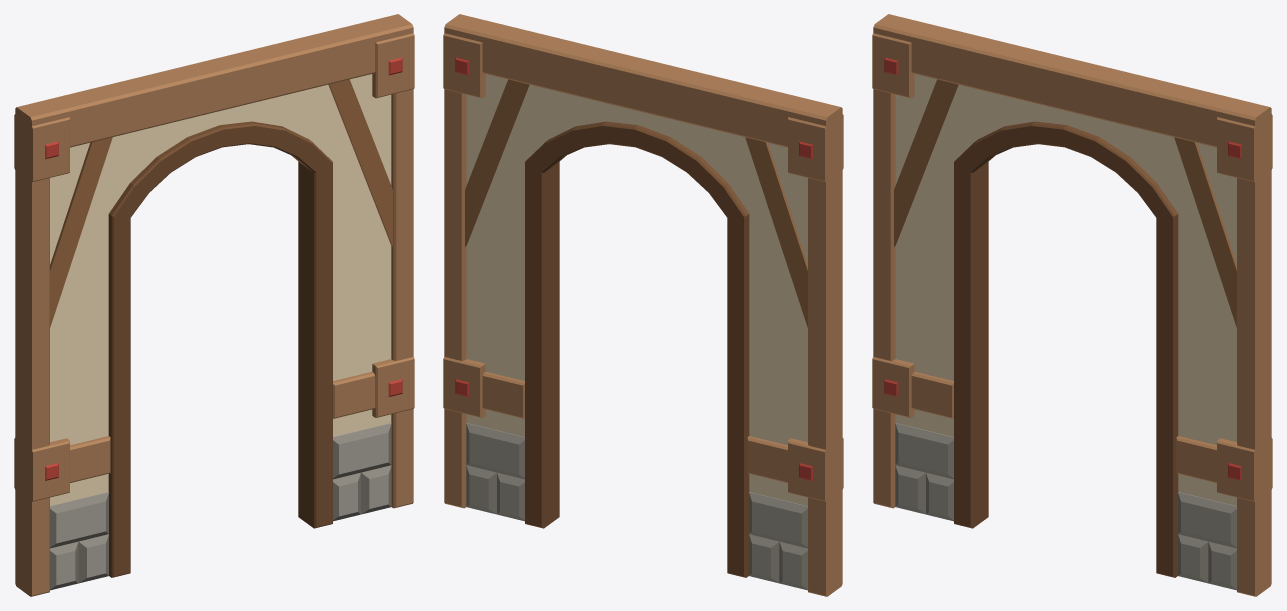
The model's file is FMS_Workshop_MOD_05.fbx.
The picture shows the model from 3 angles, left to right: view 1: azimuth 30°, elevation 25°; view 2: azimuth 150°, elevation 25°; view 3: azimuth 330°, elevation 25°; orthographic projection.
Parts seen in each view (by area): view 1: FMS_Workshop_MOD_05_Body; view 2: FMS_Workshop_MOD_05_Body; view 3: FMS_Workshop_MOD_05_Body.
Part boxes in pixels (x1=…): FMS_Workshop_MOD_05_Body: x1=14, y1=14, x2=414, y2=596; FMS_Workshop_MOD_05_Body: x1=443, y1=14, x2=843, y2=596; FMS_Workshop_MOD_05_Body: x1=872, y1=14, x2=1272, y2=596.
Bounding box in the file's own units: 2 × 2.4 × 0.18.
